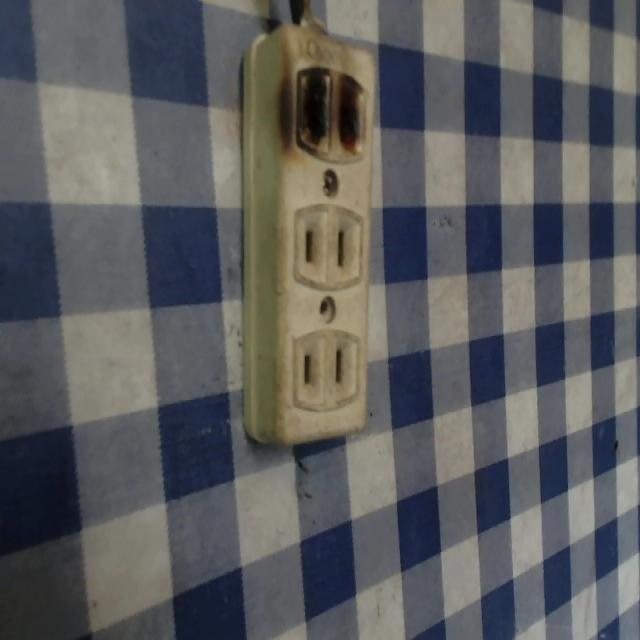-: (281, 46, 379, 170)
